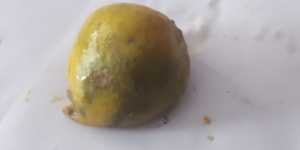BAD: (61, 3, 188, 125)
